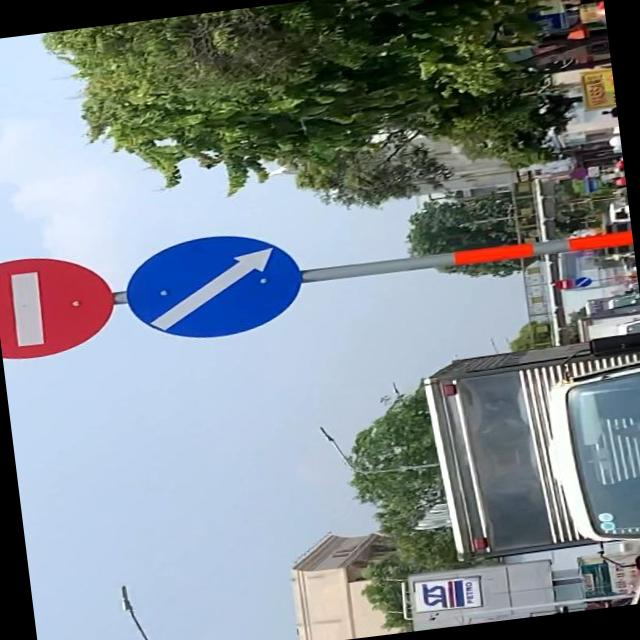P-102: (0, 250, 113, 359)
R-302a: (122, 225, 308, 348)
